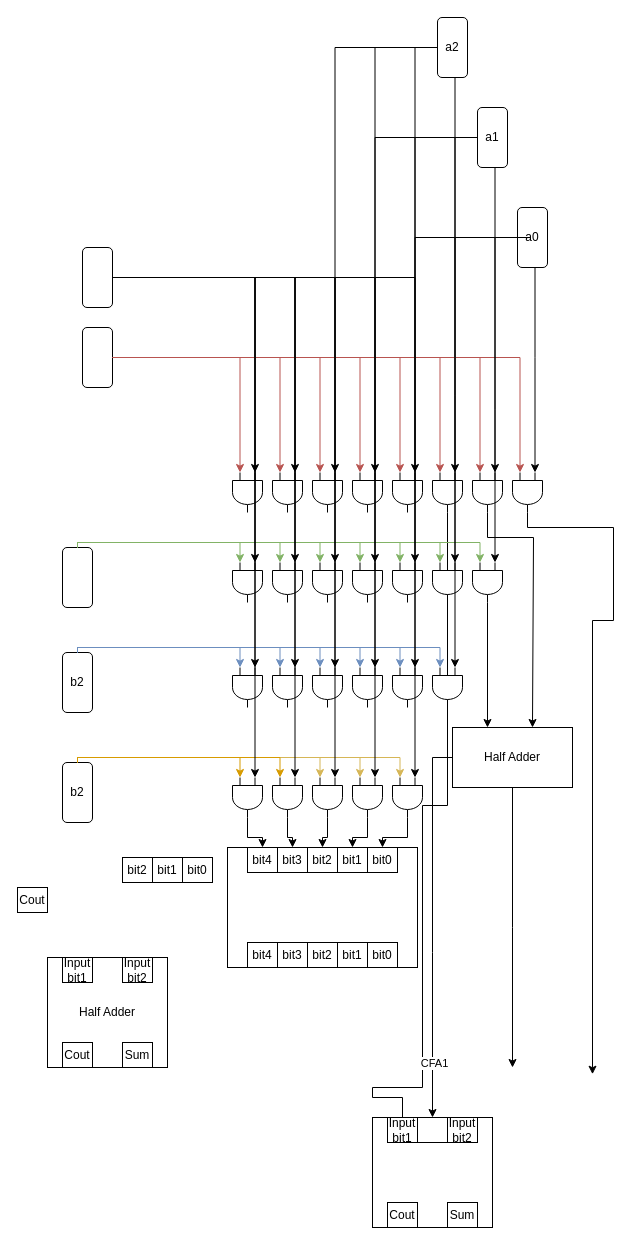
The diagram is 639 pixels wide and 1245 high, and some of its shapes have lost their labels. Each missing label, with the box of its shape:
2's complement: (226, 846, 418, 968)
a3: (82, 246, 112, 308)
b0: (82, 326, 112, 388)
b1: (62, 546, 92, 608)
Cin: (416, 1116, 448, 1142)
Full Adder: (372, 1116, 492, 1228)
